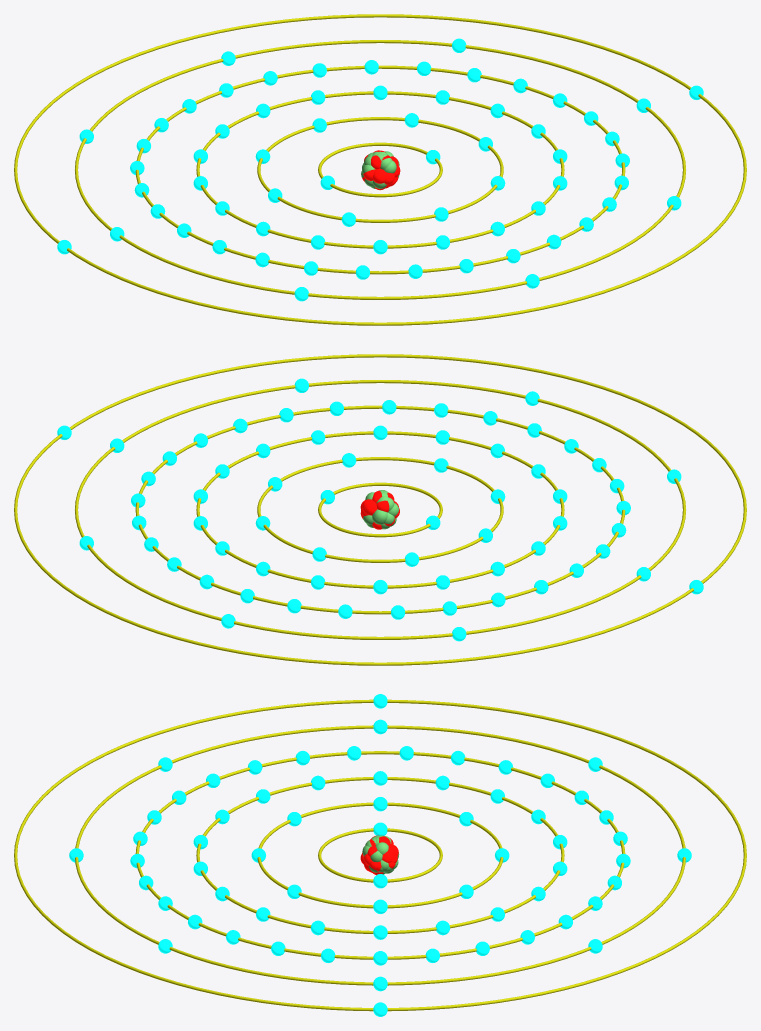
Rendered from atomo_67.glb.
The picture shows the model from 3 angles, top to bottom: view 1: azimuth 30°, elevation 25°; view 2: azimuth 150°, elevation 25°; view 3: azimuth 270°, elevation 25°; orthographic projection.
Parts seen in each view (by area): view 1: orbital_6, orbital_5, orbital_4, orbital_3, orbital_2, orbital_1; view 2: orbital_6, orbital_5, orbital_4, orbital_3, orbital_2, orbital_1; view 3: orbital_6, orbital_5, orbital_4, orbital_3, orbital_2, orbital_1.
Boxes of the visible parts, x1,y1,x2,y2 form: orbital_6: (14,14,746,325); orbital_5: (75,40,685,299); orbital_4: (135,65,625,274); orbital_3: (196,91,564,248); orbital_2: (257,117,503,222); orbital_1: (318,142,442,197); orbital_6: (14,354,746,665); orbital_5: (75,380,685,639); orbital_4: (135,405,625,614); orbital_3: (196,431,564,588); orbital_2: (257,457,503,562); orbital_1: (318,482,442,537); orbital_6: (14,699,746,1011); orbital_5: (75,725,685,985); orbital_4: (135,751,625,959); orbital_3: (196,777,564,933); orbital_2: (257,802,503,908); orbital_1: (318,828,442,882).
Size of the model in its own units: 18.36 by 0.9995 by 18.08.
